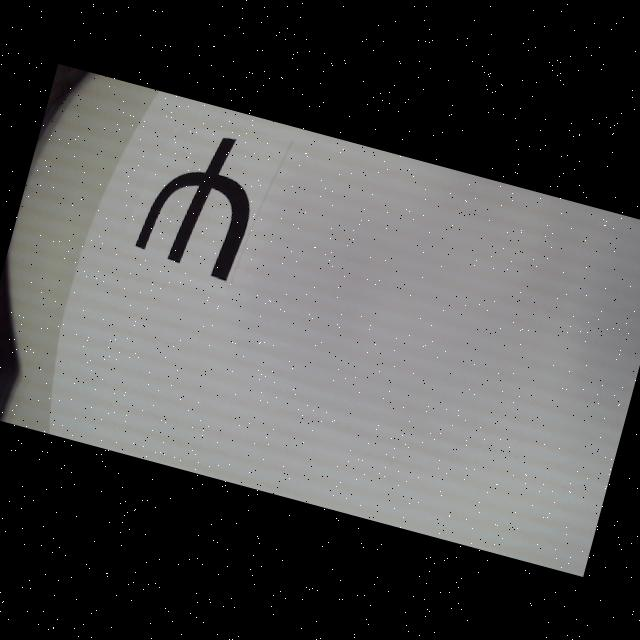PSI: (130, 120, 268, 282)
